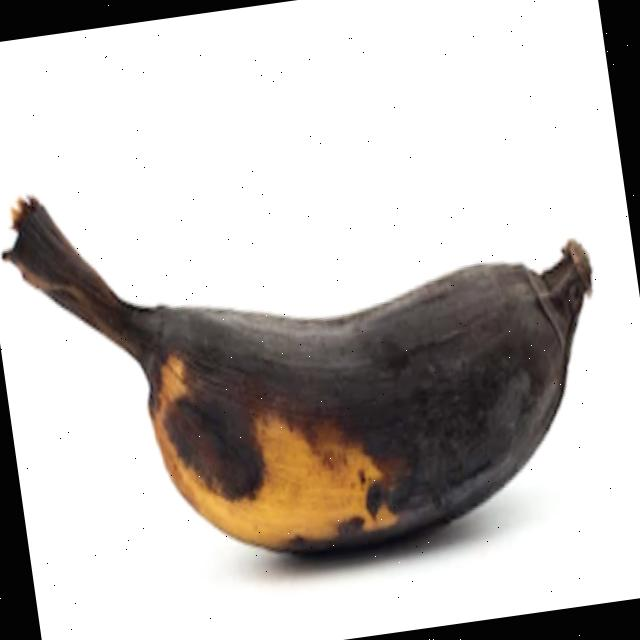Rotten: (0, 107, 634, 602)
